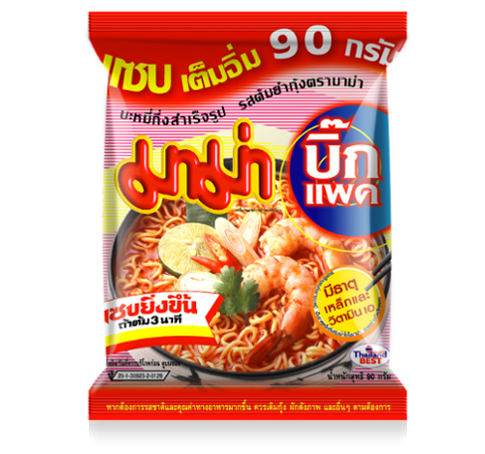Snack: (81, 7, 412, 428)
